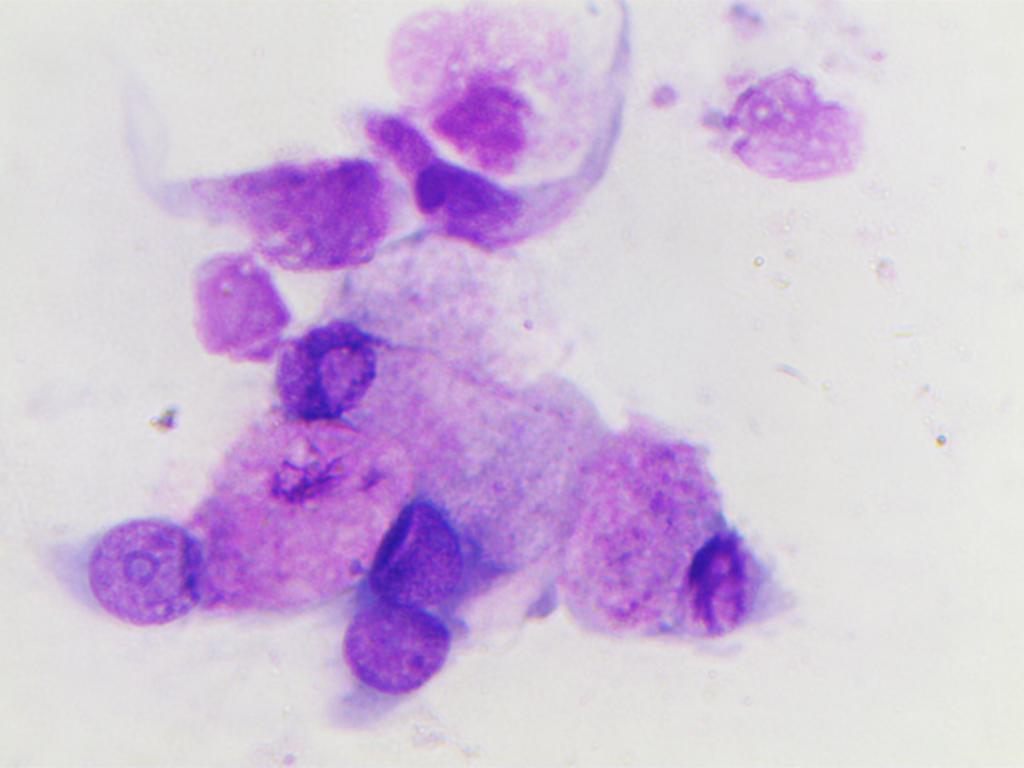artifact: (369, 6, 622, 268), (160, 149, 380, 272), (697, 51, 867, 199), (174, 240, 289, 367)
goblet_cell: (33, 492, 354, 634), (582, 432, 779, 647), (269, 322, 434, 467), (306, 603, 457, 739), (350, 475, 484, 601)
